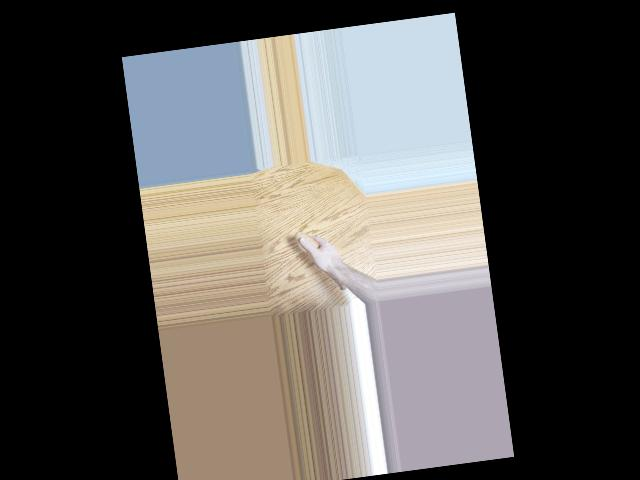sweet_potato: (293, 225, 345, 294)
